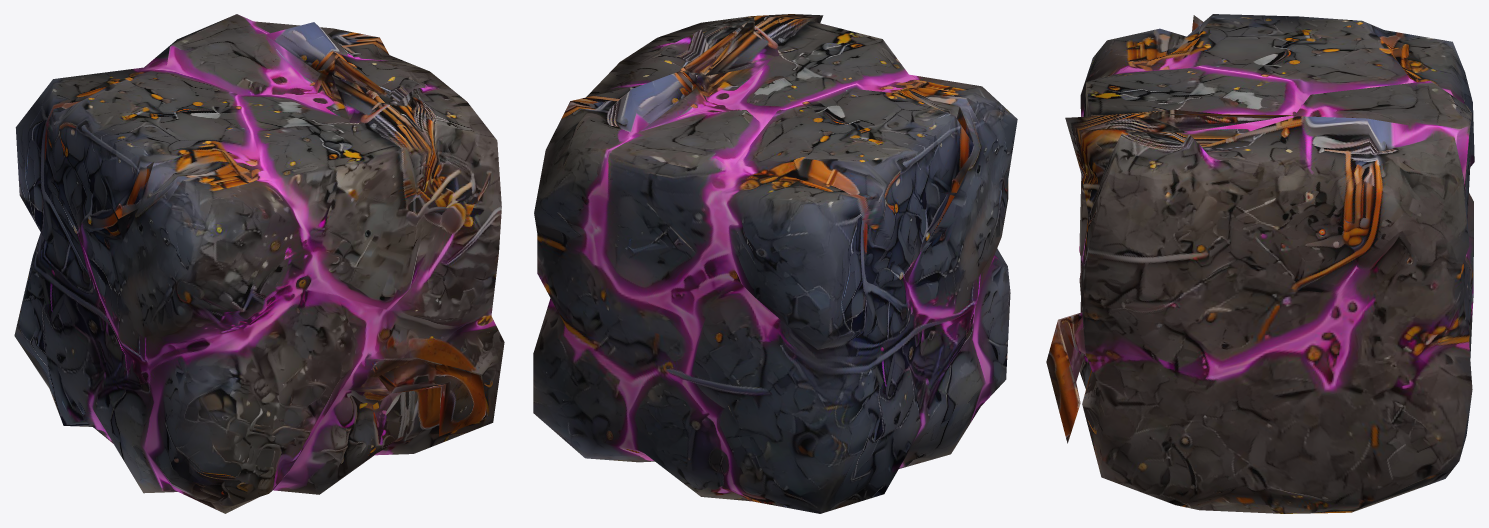
The model's file is Debris_Wall.obj.
3 renders of one model, left to right at view 1: azimuth 30°, elevation 25°; view 2: azimuth 150°, elevation 25°; view 3: azimuth 270°, elevation 25°, orthographic. The views are drawn at different scales.
Visible parts, largest first — view 1: tripo_node_9face02a-d241-4f89-9884-ddca6b64b4ad; view 2: tripo_node_9face02a-d241-4f89-9884-ddca6b64b4ad; view 3: tripo_node_9face02a-d241-4f89-9884-ddca6b64b4ad.
Part boxes in pixels (x1,y1,x2,y2): tripo_node_9face02a-d241-4f89-9884-ddca6b64b4ad: (14, 14, 504, 513); tripo_node_9face02a-d241-4f89-9884-ddca6b64b4ad: (533, 14, 1017, 513); tripo_node_9face02a-d241-4f89-9884-ddca6b64b4ad: (1046, 14, 1474, 513).
Size of the model in its own units: 0.8826 by 0.9613 by 0.9603.
1 material, 1 textured.
